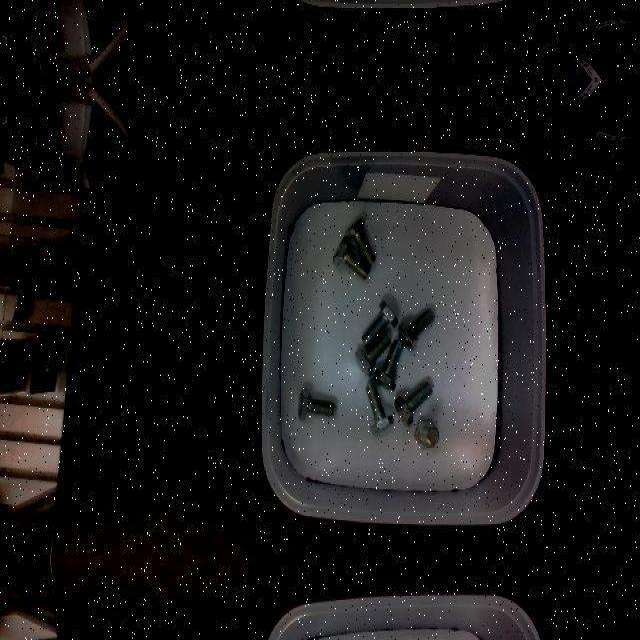screw: (361, 300, 398, 348), (394, 381, 432, 425), (354, 331, 390, 377), (398, 308, 435, 352), (372, 340, 403, 392), (365, 380, 394, 434), (333, 236, 370, 278), (345, 216, 376, 266), (297, 387, 335, 421), (414, 418, 439, 448)
